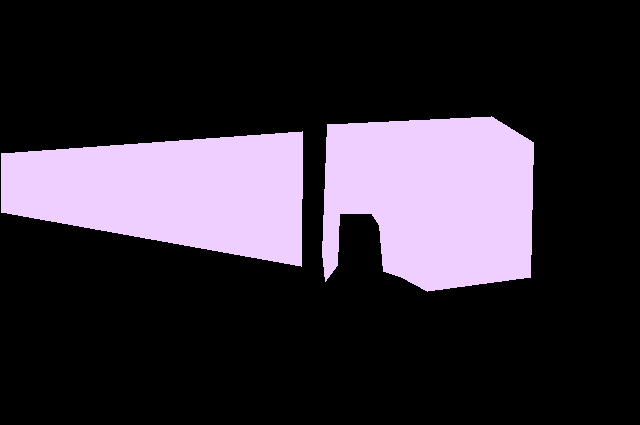Train: (1, 116, 533, 291)
